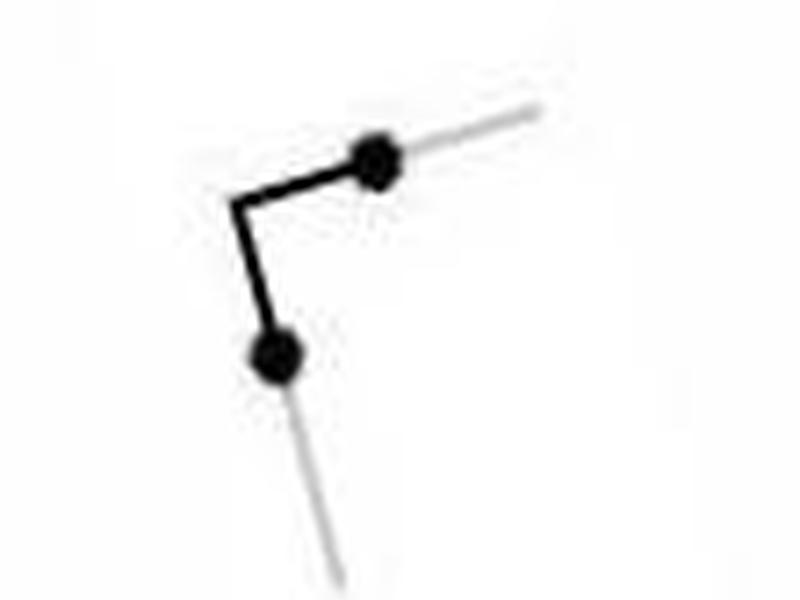butt_weld_90: (164, 69, 562, 589)
